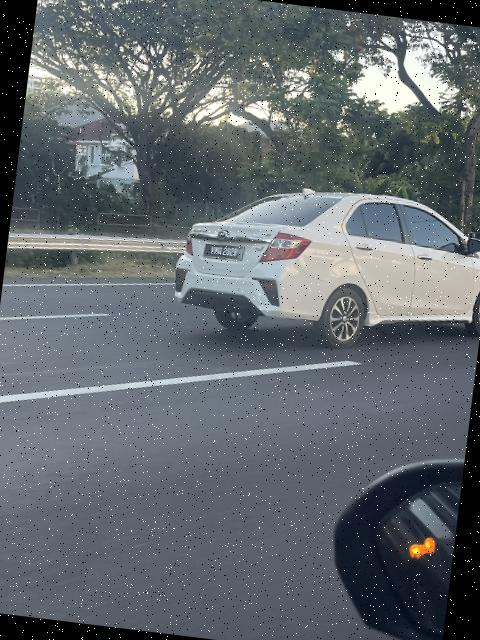License_Plate: (187, 237, 254, 270)
car: (162, 158, 480, 360)
